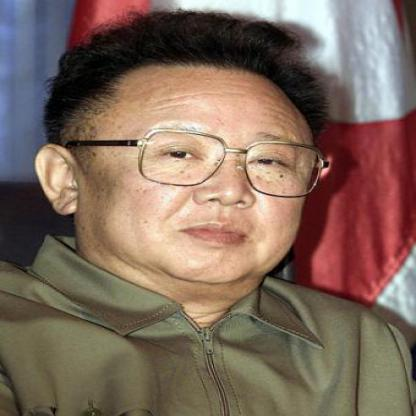face: (77, 34, 326, 291)
